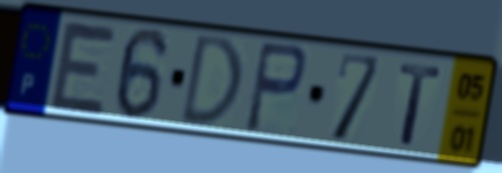6: (113, 26, 171, 123)
7: (331, 50, 383, 145)
D: (176, 31, 245, 128)
E: (47, 16, 121, 119)
P: (241, 39, 309, 138)
T: (396, 60, 444, 150)
